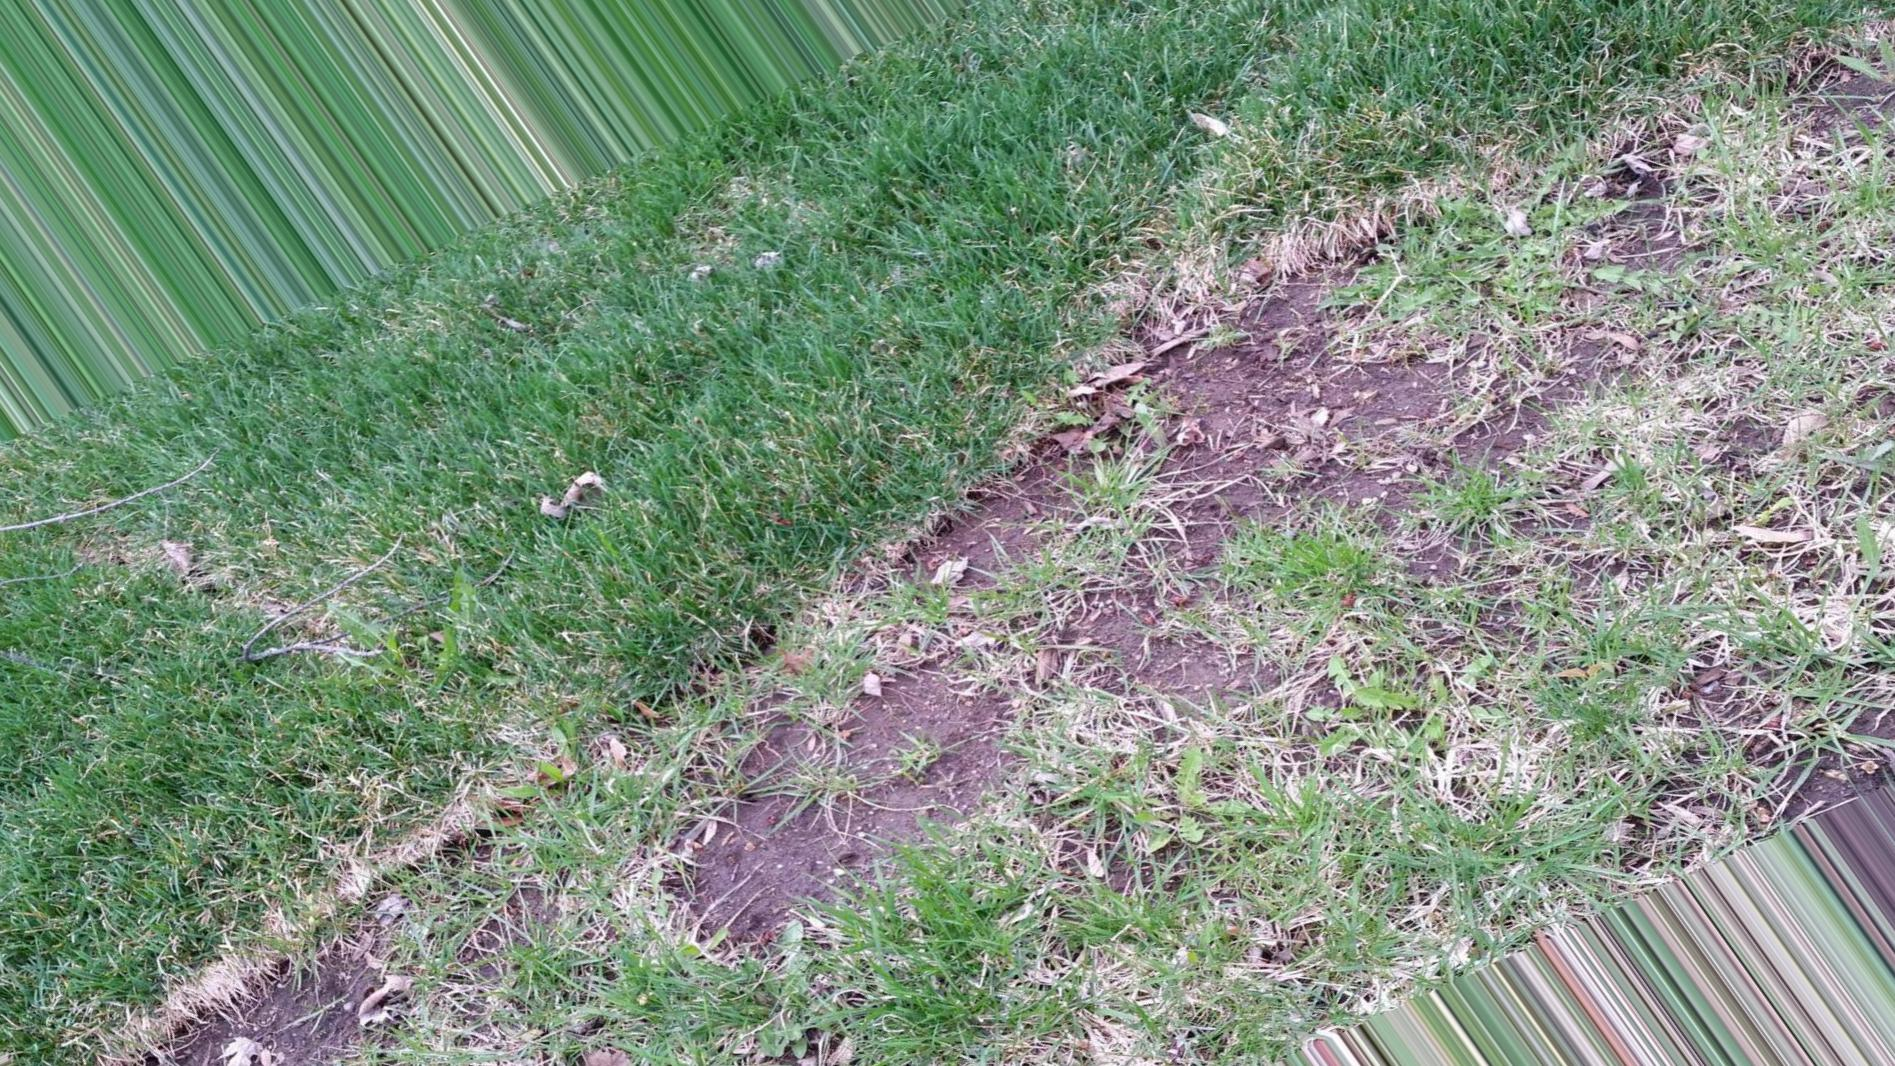patch: (950, 335, 1533, 694), (1581, 151, 1685, 691), (646, 764, 963, 909)
